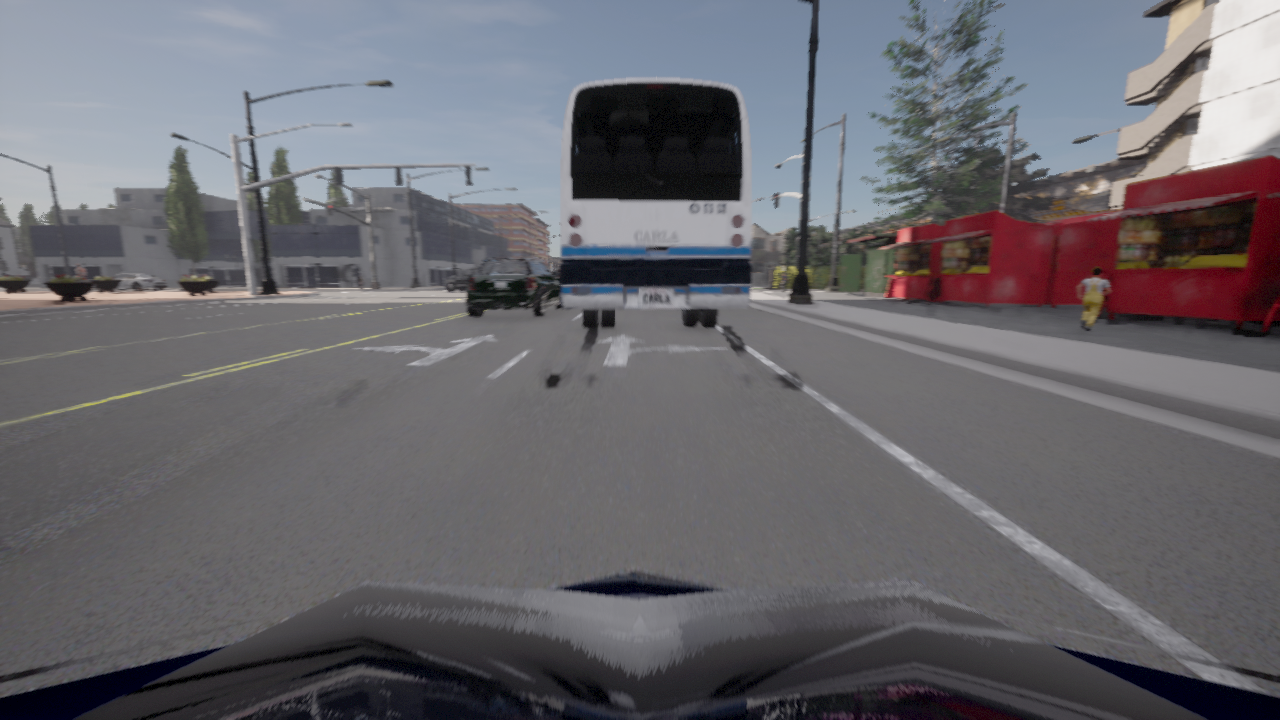cyclist: (0, 569, 1279, 719), (560, 78, 751, 327), (466, 257, 563, 316), (93, 273, 166, 290), (444, 267, 479, 291)
pedestrian: (1077, 267, 1110, 331), (76, 263, 86, 280), (780, 273, 786, 291), (359, 276, 363, 288)
